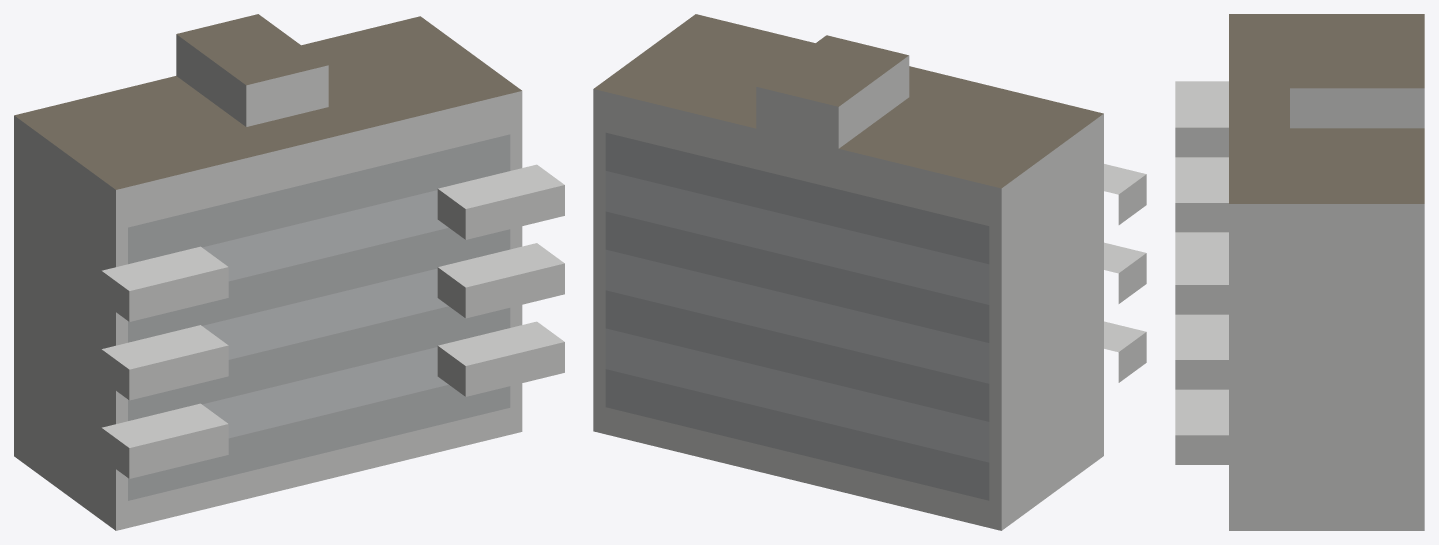
Rendered from bauhaus-block.far-v2.lod2.glb.
The picture shows the model from 3 angles, left to right: view 1: azimuth 30°, elevation 25°; view 2: azimuth 150°, elevation 25°; view 3: azimuth 270°, elevation 25°; orthographic projection. The views are drawn at different scales.
Visible parts, largest first — view 1: bauhaus-block; view 2: bauhaus-block; view 3: bauhaus-block.
Part boxes in pixels (x1=…): bauhaus-block: x1=14, y1=14, x2=564, y2=530; bauhaus-block: x1=593, y1=14, x2=1146, y2=530; bauhaus-block: x1=1175, y1=14, x2=1424, y2=530.
Size of the model in its own units: 18 by 15.12 by 9.3.
